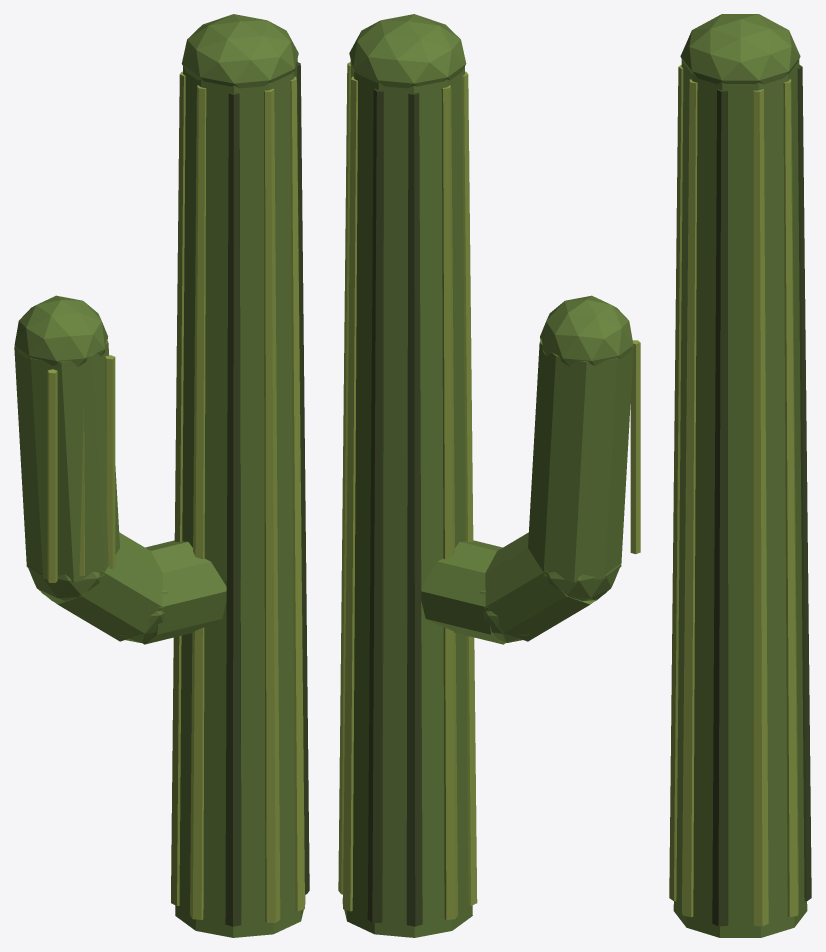
Rendered from Saguaro_2.glb.
3 renders of one model, left to right at view 1: azimuth 30°, elevation 25°; view 2: azimuth 150°, elevation 25°; view 3: azimuth 270°, elevation 25°, orthographic.
Parts seen in each view (by area): view 1: Main cactus column.001, Arm volume segment.008, Cactus rib.016, Cactus rib.015, Cactus rib.017, Cactus rib.014, Column crown.001, Arm volume segment.007, Cactus rib.018, Arm volume segment.006, Branch joint.008, Cactus rib.013 (+3 smaller); view 2: Main cactus column.001, Arm volume segment.008, Cactus rib.019, Cactus rib.010, Cactus rib.018, Cactus rib.011, Column crown.001, Arm volume segment.007, Cactus rib.017, Arm volume segment.006, Branch joint.008, Cactus rib.012 (+2 smaller); view 3: Main cactus column.001, Cactus rib.013, Cactus rib.012, Cactus rib.011, Cactus rib.014, Column crown.001, Cactus rib.010, Cactus rib.015.
Part boxes in pixels (x1=…): Main cactus column.001: x1=175, y1=59, x2=305, y2=937; Arm volume segment.008: x1=14, y1=338, x2=119, y2=582; Cactus rib.016: x1=225, y1=92, x2=241, y2=926; Cactus rib.015: x1=264, y1=88, x2=280, y2=922; Cactus rib.017: x1=190, y1=85, x2=206, y2=919; Cactus rib.014: x1=290, y1=76, x2=304, y2=911; Column crown.001: x1=181, y1=14, x2=298, y2=88; Arm volume segment.007: x1=41, y1=532, x2=163, y2=641; Cactus rib.018: x1=171, y1=71, x2=185, y2=905; Arm volume segment.006: x1=142, y1=540, x2=226, y2=644; Branch joint.008: x1=14, y1=295, x2=107, y2=366; Cactus rib.013: x1=297, y1=62, x2=309, y2=894; Main cactus column.001: x1=342, y1=60, x2=472, y2=937; Arm volume segment.008: x1=528, y1=339, x2=633, y2=582; Cactus rib.019: x1=406, y1=92, x2=422, y2=926; Cactus rib.010: x1=367, y1=88, x2=383, y2=922; Cactus rib.018: x1=441, y1=85, x2=457, y2=919; Cactus rib.011: x1=343, y1=76, x2=357, y2=911; Column crown.001: x1=349, y1=14, x2=466, y2=88; Arm volume segment.007: x1=484, y1=532, x2=606, y2=641; Cactus rib.017: x1=462, y1=71, x2=477, y2=905; Arm volume segment.006: x1=421, y1=540, x2=505, y2=644; Branch joint.008: x1=540, y1=295, x2=633, y2=366; Cactus rib.012: x1=338, y1=62, x2=350, y2=894; Main cactus column.001: x1=673, y1=60, x2=807, y2=937; Cactus rib.013: x1=712, y1=89, x2=728, y2=926; Cactus rib.012: x1=752, y1=89, x2=768, y2=926; Cactus rib.011: x1=783, y1=79, x2=798, y2=917; Cactus rib.014: x1=682, y1=79, x2=697, y2=917; Column crown.001: x1=680, y1=14, x2=800, y2=84; Cactus rib.010: x1=797, y1=64, x2=811, y2=901; Cactus rib.015: x1=669, y1=64, x2=683, y2=901.
Size of the model in its own units: 0.6652 by 2.04 by 0.2954.
